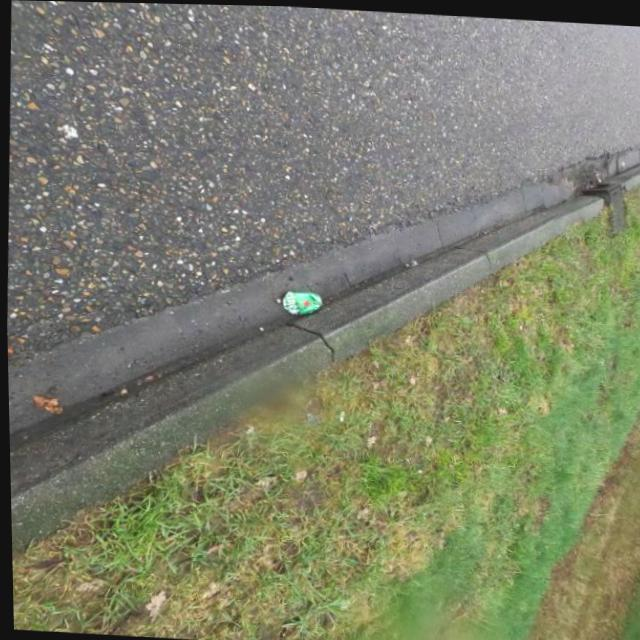Can-Metal: (279, 286, 322, 314)
